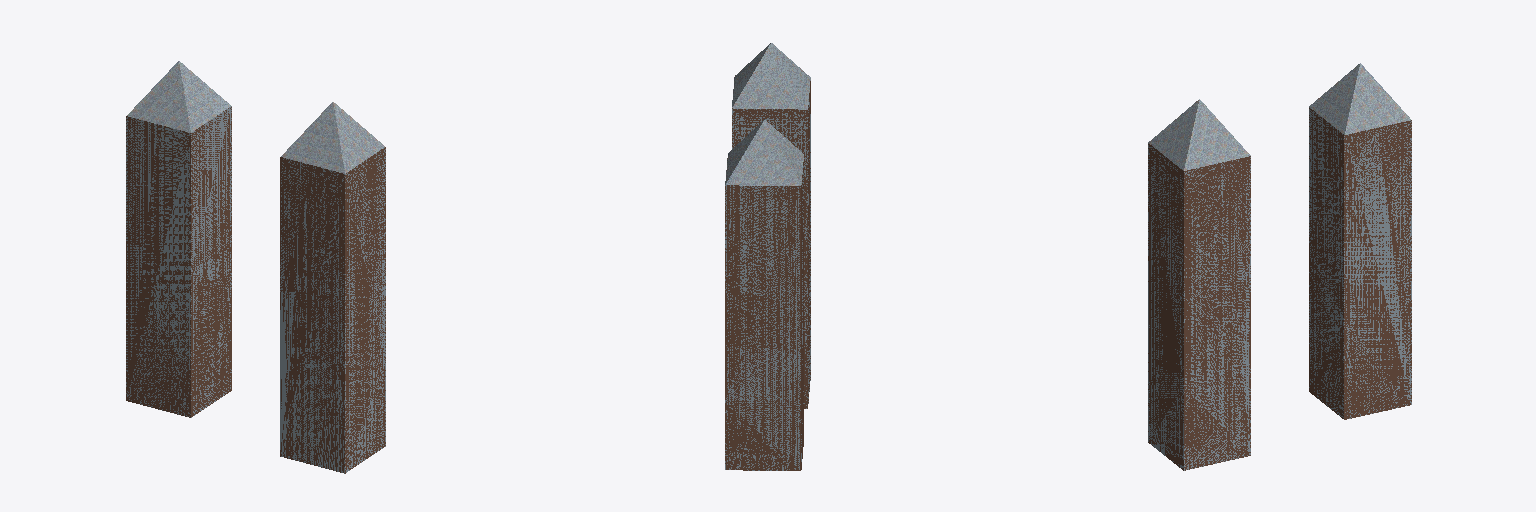
3 renders of one model, left to right at view 1: azimuth 30°, elevation 25°; view 2: azimuth 150°, elevation 25°; view 3: azimuth 270°, elevation 25°, orthographic.
Visible parts, largest first — view 1: Mesh7 Group1 Model, Mesh6 Group1 Model; view 2: Mesh6 Group1 Model, Mesh7 Group1 Model; view 3: Mesh7 Group1 Model, Mesh6 Group1 Model.
Part boxes in pixels (x1,y1,x2,y2): Mesh7 Group1 Model: (280, 102, 385, 473); Mesh6 Group1 Model: (126, 61, 231, 417); Mesh6 Group1 Model: (725, 119, 803, 470); Mesh7 Group1 Model: (732, 43, 810, 408); Mesh7 Group1 Model: (1148, 99, 1250, 470); Mesh6 Group1 Model: (1309, 63, 1411, 419).
Size of the model in its own units: 30.39 by 62.39 by 42.59.
Materials: 4 (1 with a texture image).